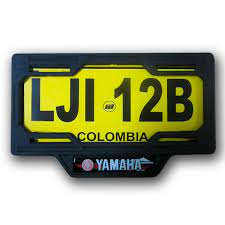placa_moto: (9, 53, 215, 156)
